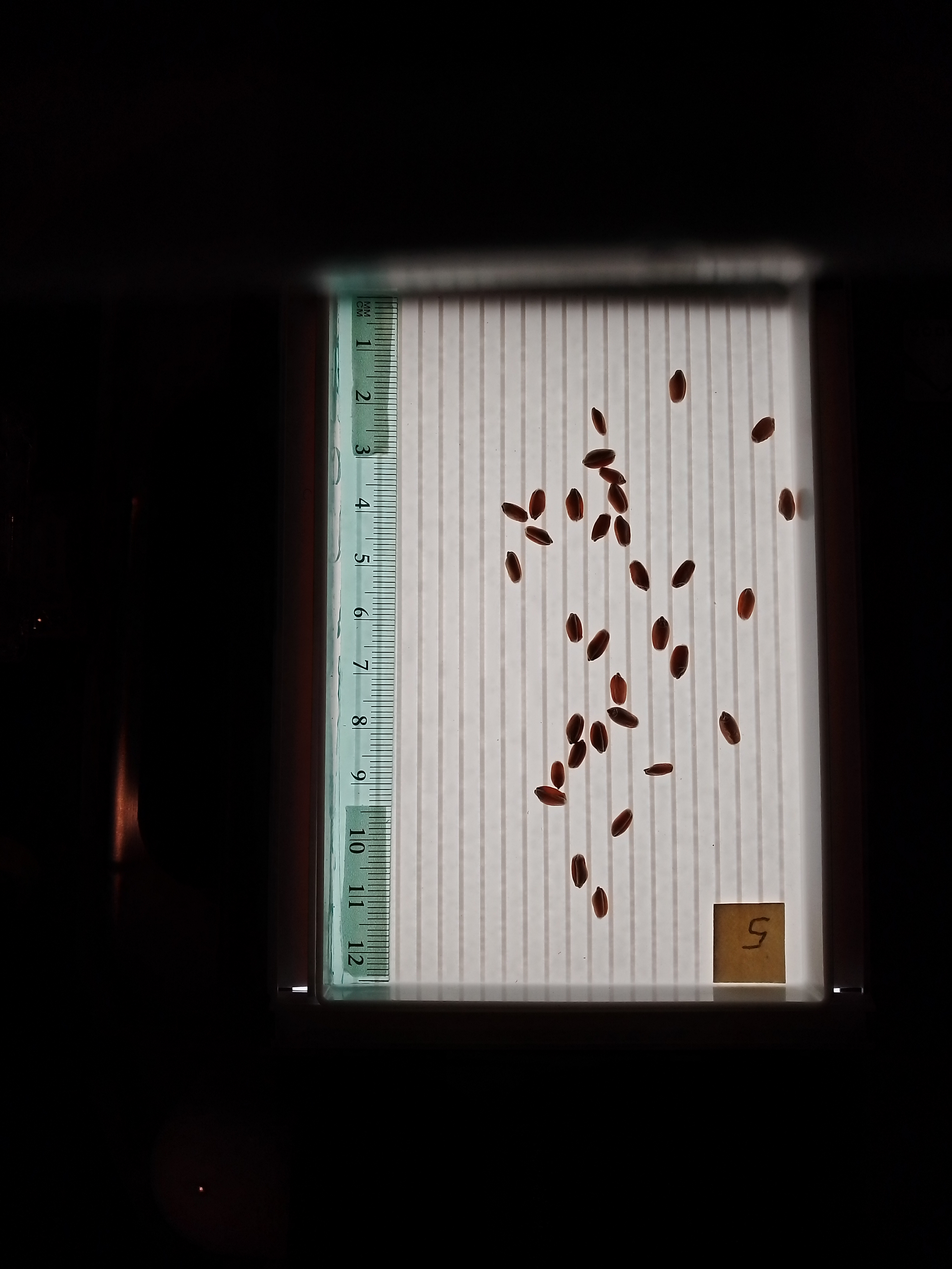seed mask: (719, 713, 741, 745), (751, 416, 775, 444), (584, 448, 615, 469), (672, 560, 695, 588), (609, 707, 638, 729), (588, 631, 609, 661), (670, 645, 689, 678), (652, 617, 670, 651), (608, 484, 628, 514), (630, 561, 650, 591), (566, 489, 584, 522), (536, 786, 565, 806), (571, 854, 588, 888), (611, 810, 632, 837), (778, 489, 796, 520), (737, 589, 755, 620), (669, 371, 686, 403), (590, 723, 608, 753), (566, 714, 584, 744), (502, 503, 528, 523), (614, 516, 631, 546), (568, 741, 586, 769), (610, 674, 626, 705), (529, 490, 546, 519), (566, 614, 583, 643), (526, 527, 551, 546), (592, 515, 610, 541), (506, 552, 521, 583), (645, 761, 673, 777), (593, 888, 608, 917), (592, 408, 607, 435), (599, 468, 624, 484), (551, 762, 565, 788)
